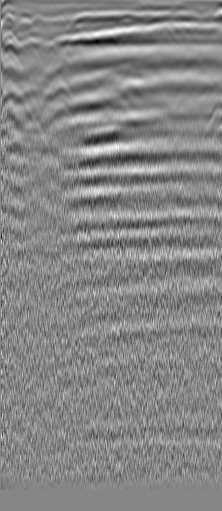오수: (30, 9, 50, 29)
우수: (175, 24, 195, 44)
